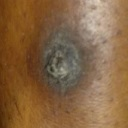Wart: (41, 40, 77, 87)
